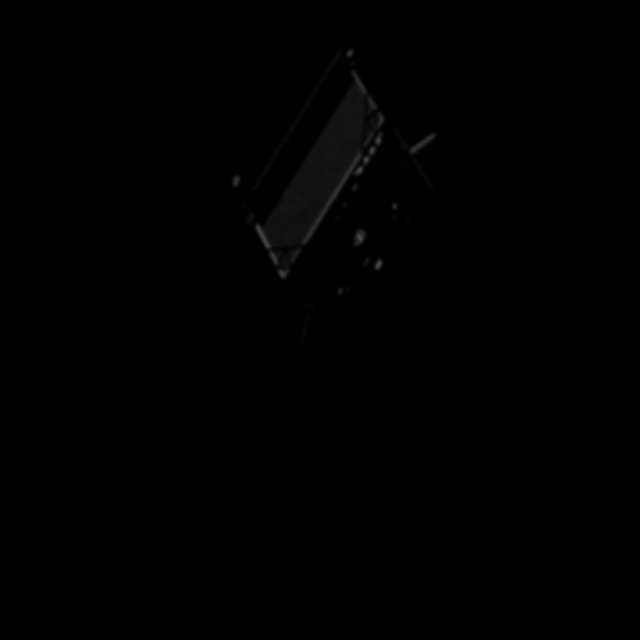satellite: (224, 42, 440, 352)
